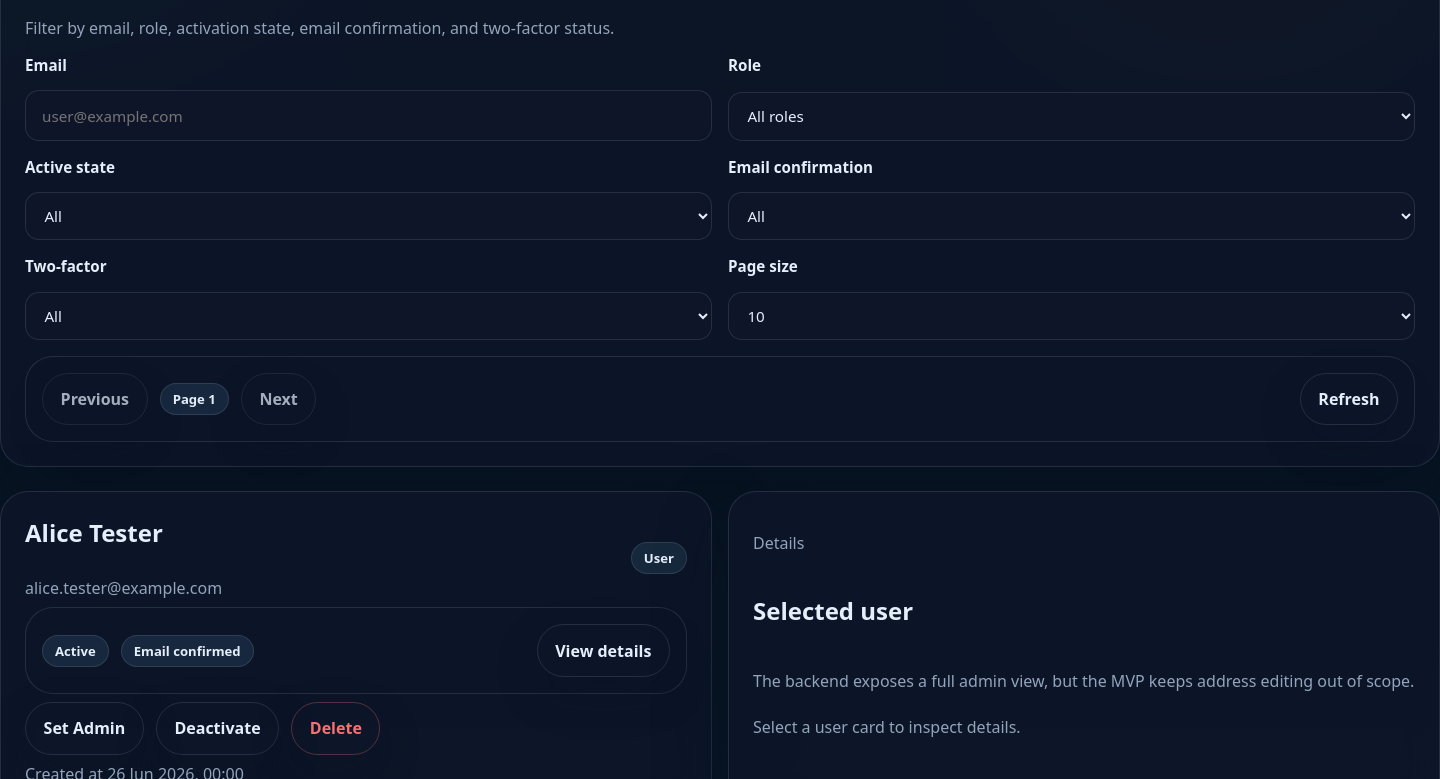
Test case: UserList page › allows admins to request role changes
(page scrolled)
Expected: the heading "Alice Tester" is shown, top-left (25, 516), bottom-right (163, 549)
Click the button "Set Admin" at (84, 728), box top-left (25, 702), bottom-right (144, 755)
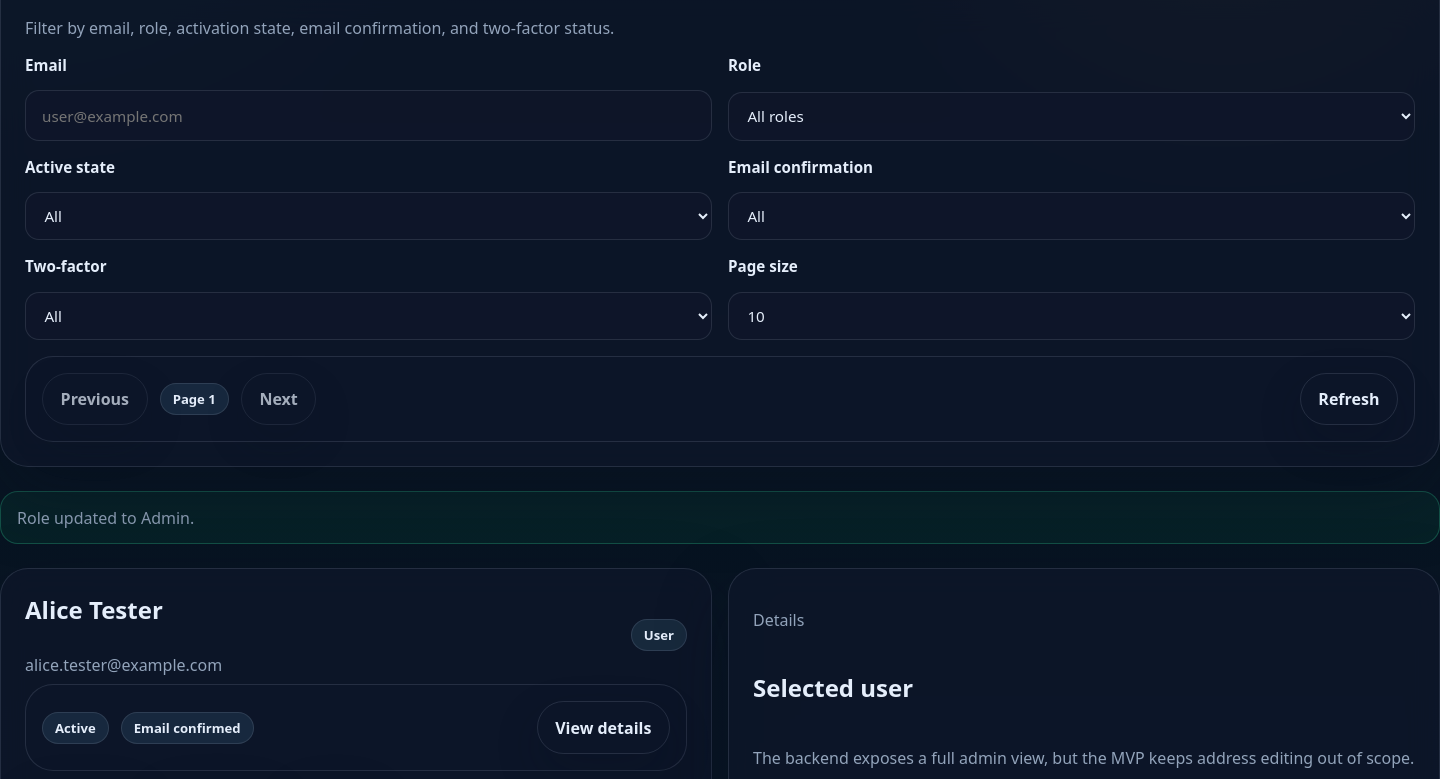
Expected: the text "Role updated to Admin." is shown, top-left (0, 491), bottom-right (1439, 544)
